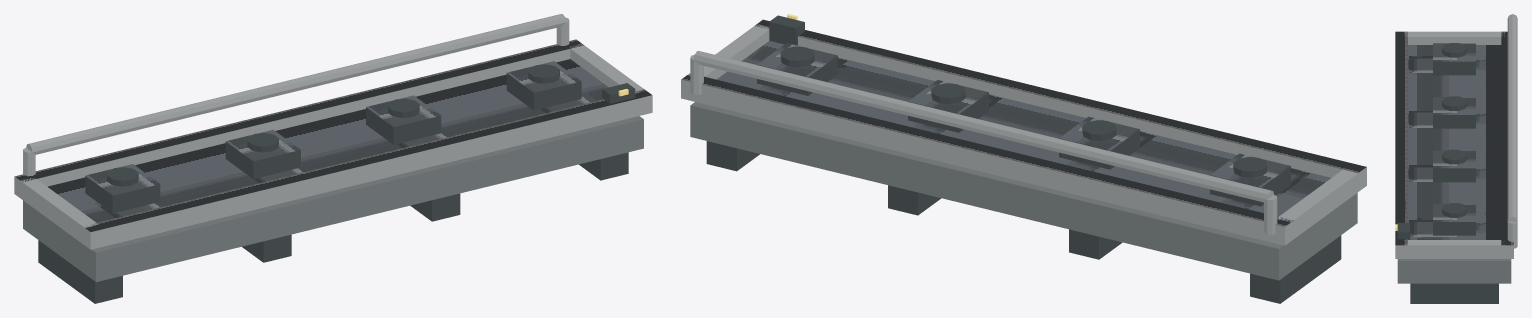
File: Building_HydroponicsBasin.glb
3 renders of one model, left to right at view 1: azimuth 30°, elevation 25°; view 2: azimuth 150°, elevation 25°; view 3: azimuth 270°, elevation 25°, orthographic. The views are drawn at different scales.
Parts seen in each view (by area): view 1: HydroponicsBasin; view 2: HydroponicsBasin; view 3: HydroponicsBasin.
Boxes of the visible parts, x1,y1,x2,y2 form: HydroponicsBasin: [14, 14, 652, 303]; HydroponicsBasin: [681, 14, 1366, 303]; HydroponicsBasin: [1395, 14, 1517, 303].
Bounding box in the file's own units: 4 × 0.76 × 0.97.
Materials: 1 (1 with a texture image).
